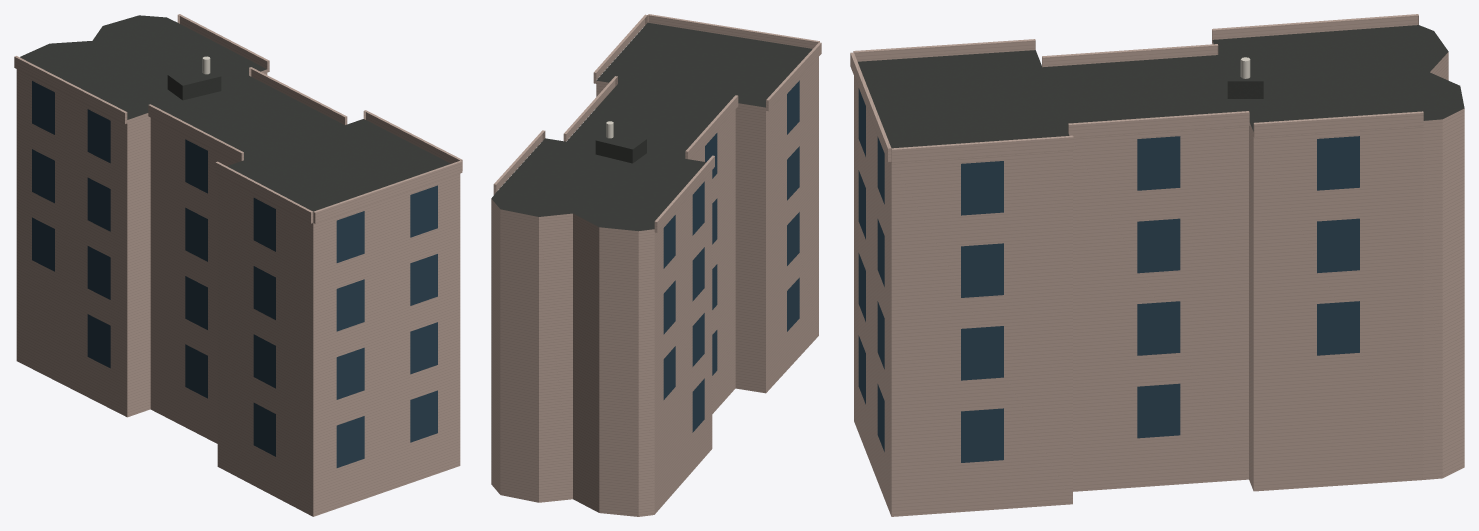
3 views of the same model, side by side, from view 1: azimuth 30°, elevation 25°; view 2: azimuth 150°, elevation 25°; view 3: azimuth 270°, elevation 25° (orthographic). The views are drawn at different scales.
Parts seen in each view (by area): view 1: Footprint 0 / surface 2, Footprint 0 / surface 1, Inset glazing, Facade bay volumes, Inferred rooftop service enclosure / surface 5, Inferred rooftop service enclosure / surface 3; view 2: Footprint 0 / surface 2, Footprint 0 / surface 1, Inset glazing, Facade bay volumes, Inferred rooftop service enclosure / surface 6, Inferred rooftop service enclosure / surface 3; view 3: Footprint 0 / surface 2, Footprint 0 / surface 1, Inset glazing, Facade bay volumes, Inferred rooftop service enclosure / surface 3.
Part boxes in pixels (x1,y1,x2,y2): Footprint 0 / surface 2: (16,69,460,516); Footprint 0 / surface 1: (20,15,450,211); Inset glazing: (32,81,437,467); Facade bay volumes: (14,14,462,223); Inferred rooftop service enclosure / surface 5: (182,76,221,100); Inferred rooftop service enclosure / surface 3: (168,66,220,85); Footprint 0 / surface 2: (491,57,818,516); Footprint 0 / surface 1: (491,22,812,231); Inset glazing: (663,80,799,432); Facade bay volumes: (493,14,821,232); Inferred rooftop service enclosure / surface 6: (595,140,632,163); Inferred rooftop service enclosure / surface 3: (596,131,646,149); Footprint 0 / surface 2: (854,40,1464,516); Footprint 0 / surface 1: (858,25,1464,148); Inset glazing: (858,88,1359,462); Facade bay volumes: (850,14,1423,163); Inferred rooftop service enclosure / surface 3: (1227,58,1263,81).
Bounding box in the file's own units: 10.71 × 14.5 × 20.46.
